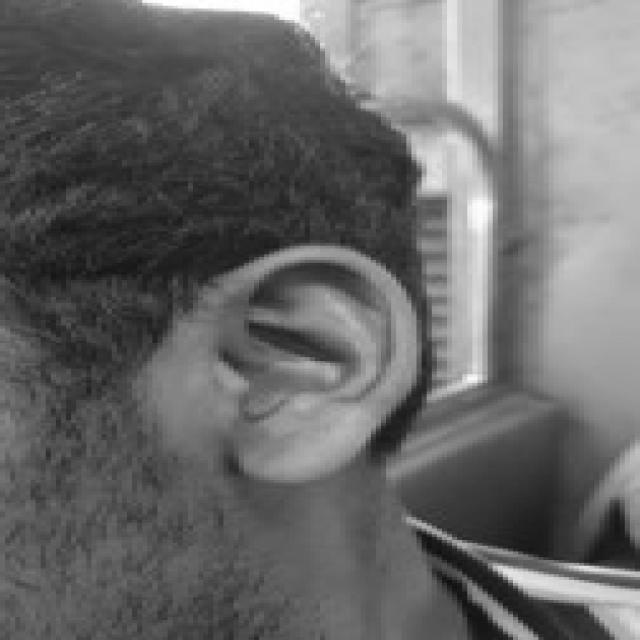ear: (168, 246, 411, 480)
